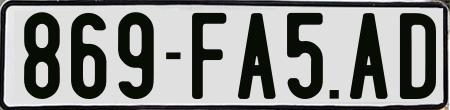5: (285, 10, 321, 98)
6: (69, 13, 110, 104)
8: (24, 10, 61, 100)
9: (118, 9, 154, 98)
A: (347, 11, 388, 102), (235, 12, 273, 99)
D: (400, 10, 438, 101)
F: (192, 11, 229, 97)
